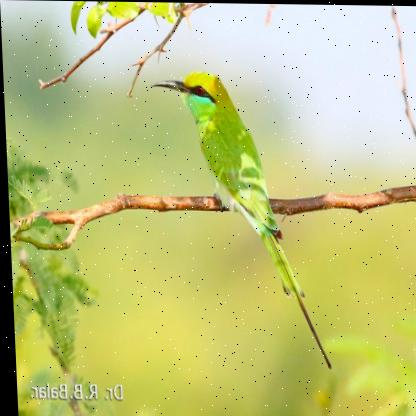Burung: (151, 69, 329, 370)
